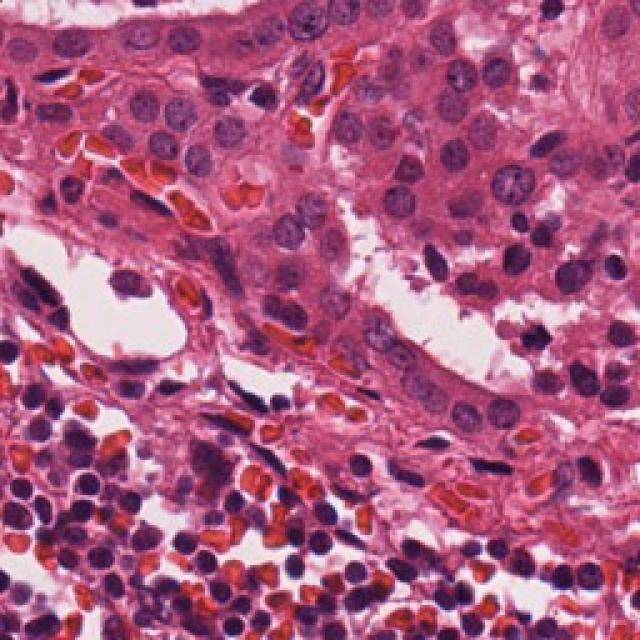abnormal: (364, 158, 445, 251), (468, 372, 550, 457), (35, 6, 115, 82), (110, 3, 178, 88), (474, 150, 553, 222), (417, 0, 482, 82), (196, 85, 256, 172), (352, 281, 410, 367), (272, 0, 347, 62), (258, 201, 318, 275), (172, 126, 229, 201), (355, 98, 411, 163), (432, 80, 488, 143), (464, 105, 514, 162)
